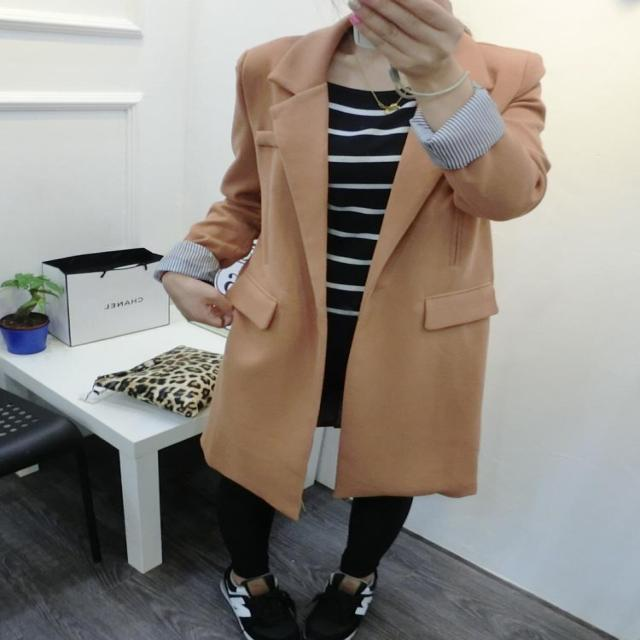long sleeve outwear: (154, 18, 352, 521)
trousers: (235, 311, 431, 576)
